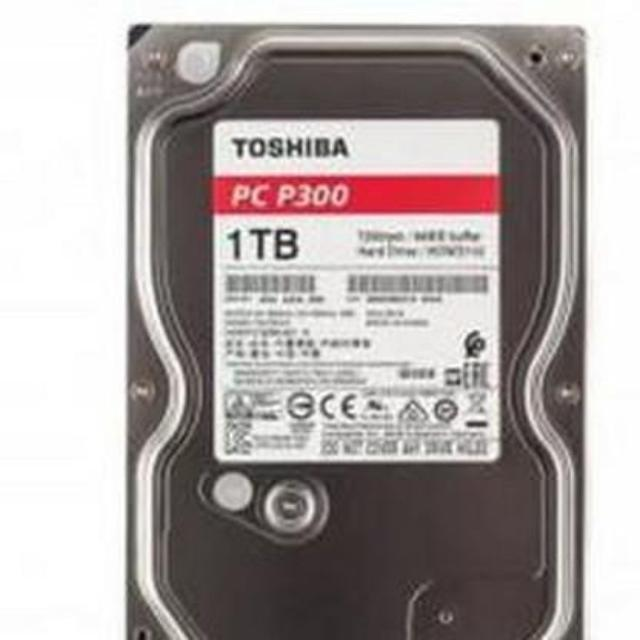DISK: (119, 20, 590, 640)
